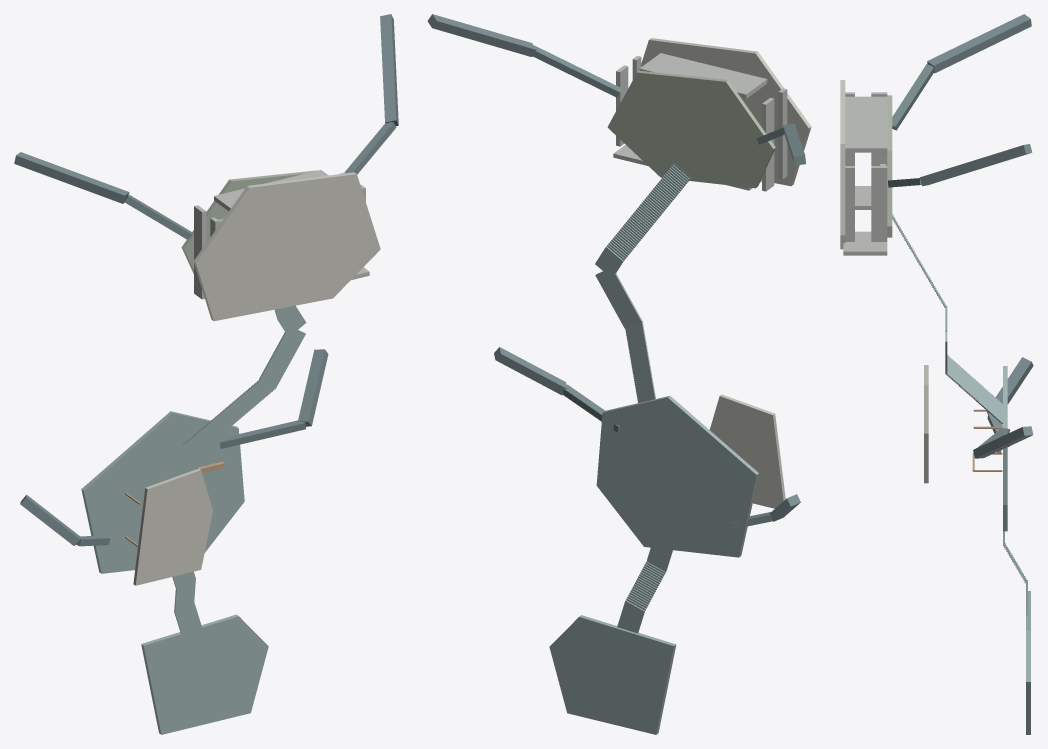
The model's file is minus_research.glb.
3 renders of one model, left to right at view 1: azimuth 30°, elevation 25°; view 2: azimuth 150°, elevation 25°; view 3: azimuth 270°, elevation 25°, orthographic.
Parts seen in each view (by area): view 1: living_roof, maker_deck, arrival_terrace, maker_weather_canopy, living_rib_0_upper, living_rib_1_upper, route_0_entry, living_deck, maker_rib_1_upper, route_1_exit, maker_rib_1_lower, maker_rib_0_upper (+3 smaller); view 2: maker_deck, living_deck, arrival_terrace, living_roof, maker_weather_canopy, living_rear, living_rib_1_upper, route_1_exit, maker_rib_1_upper, living_rib_1_lower, living_west_upper, living_west_lower; view 3: living_rear, living_rib_0_upper, living_east_lower, living_rib_1_upper, living_roof, living_deck, living_rib_0_lower, living_front_right, maker_rib_1_upper, maker_deck, living_east_upper, arrival_terrace (+3 smaller).
Part boxes in pixels (bbox=[...]): living_roof: bbox=[193, 172, 380, 321]; maker_deck: bbox=[81, 411, 244, 573]; arrival_terrace: bbox=[141, 614, 268, 734]; maker_weather_canopy: bbox=[133, 468, 212, 585]; living_rib_0_upper: bbox=[14, 152, 129, 203]; living_rib_1_upper: bbox=[380, 14, 398, 126]; route_0_entry: bbox=[174, 602, 218, 687]; living_deck: bbox=[181, 170, 317, 273]; maker_rib_1_upper: bbox=[298, 349, 328, 426]; route_1_exit: bbox=[259, 330, 305, 387]; maker_rib_1_lower: bbox=[219, 420, 305, 448]; maker_rib_0_upper: bbox=[20, 494, 80, 545]; maker_deck: bbox=[596, 396, 758, 557]; living_deck: bbox=[607, 70, 775, 188]; arrival_terrace: bbox=[549, 615, 676, 734]; living_roof: bbox=[641, 38, 811, 186]; maker_weather_canopy: bbox=[709, 394, 785, 508]; living_rear: bbox=[639, 53, 767, 98]; living_rib_1_upper: bbox=[427, 14, 536, 56]; route_1_exit: bbox=[595, 269, 641, 328]; maker_rib_1_upper: bbox=[494, 347, 567, 395]; living_rib_1_lower: bbox=[532, 45, 621, 97]; living_west_upper: bbox=[778, 88, 787, 179]; living_west_lower: bbox=[762, 97, 774, 191]; living_rear: bbox=[845, 96, 887, 152]; living_rib_0_upper: bbox=[927, 14, 1031, 73]; living_east_lower: bbox=[871, 166, 887, 241]; living_rib_1_upper: bbox=[920, 144, 1032, 186]; living_roof: bbox=[840, 80, 845, 249]; living_deck: bbox=[887, 95, 892, 237]; living_rib_0_lower: bbox=[892, 64, 933, 130]; living_front_right: bbox=[843, 231, 887, 255]; maker_rib_1_upper: bbox=[973, 426, 1033, 458]; maker_deck: bbox=[1003, 366, 1007, 531]; living_east_upper: bbox=[845, 166, 854, 241]; arrival_terrace: bbox=[1026, 591, 1030, 734].
Bounding box in the file's own units: 63.78 × 107 × 28.49.
